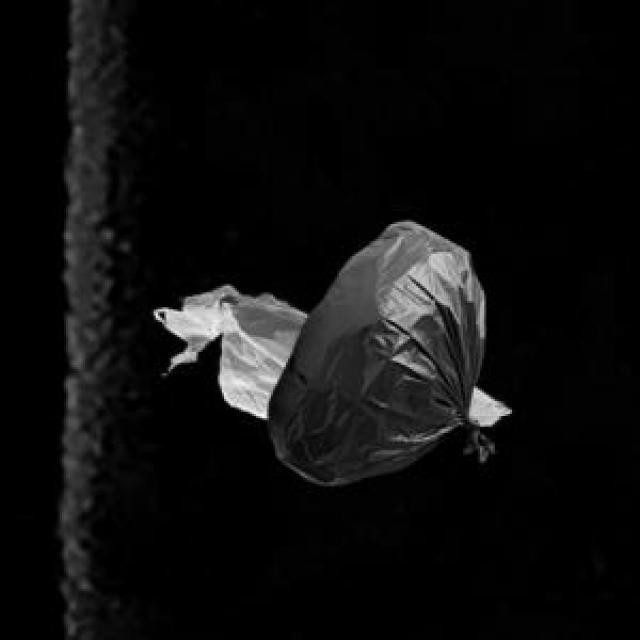miscellaneous trash: (265, 218, 489, 480)
